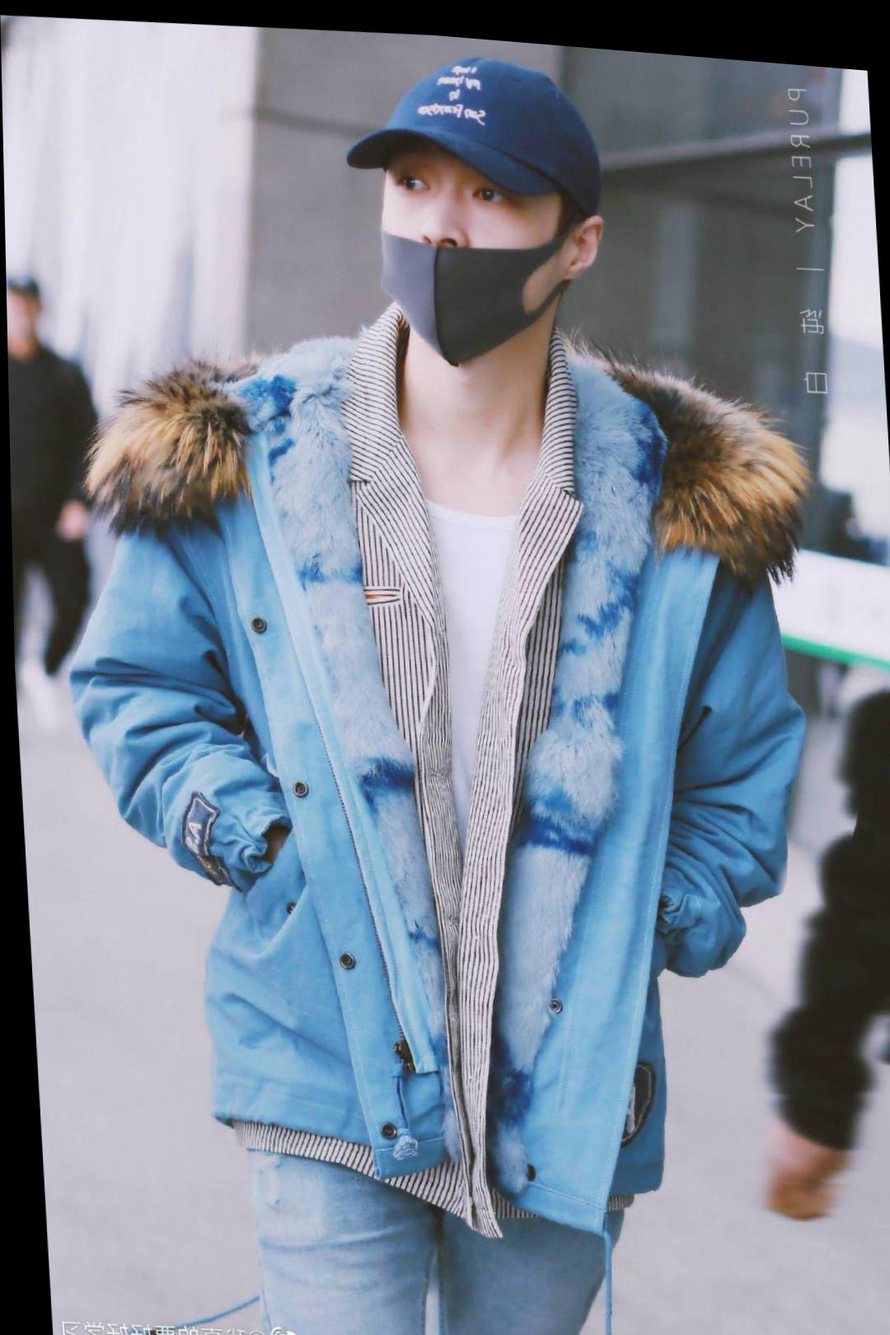WRONG: (372, 126, 557, 356)
